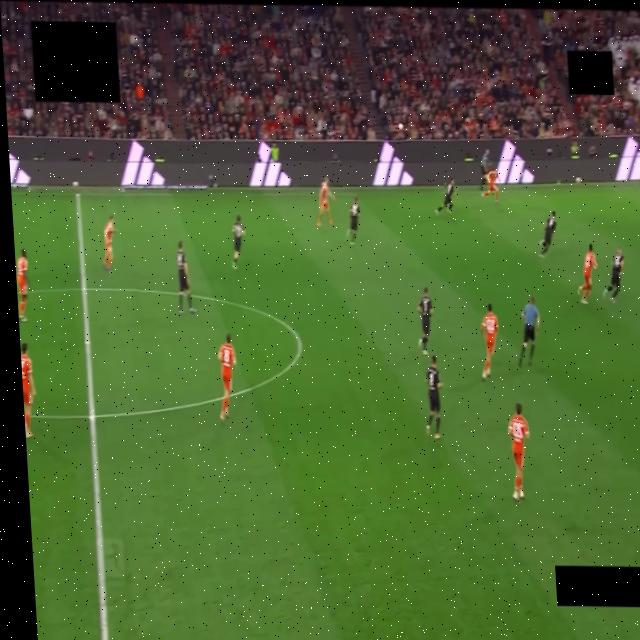player: (508, 403, 528, 502), (218, 334, 235, 419), (415, 287, 436, 355), (426, 356, 442, 438), (176, 242, 194, 314), (480, 304, 497, 380), (21, 343, 34, 438), (602, 247, 623, 302), (100, 214, 118, 273), (578, 245, 596, 303), (316, 178, 333, 227), (539, 211, 556, 257), (17, 249, 27, 321), (231, 216, 244, 269), (435, 179, 454, 214), (347, 197, 359, 244), (481, 170, 498, 203)
referee: (518, 298, 540, 366)
